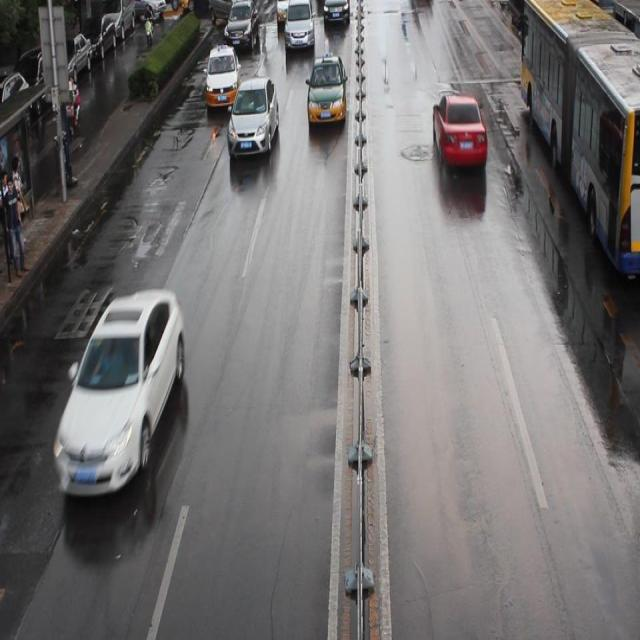car: (53, 285, 185, 497), (431, 90, 487, 166), (228, 76, 278, 156), (306, 55, 346, 123), (205, 44, 240, 108), (223, 1, 259, 46), (208, 1, 250, 22), (322, 1, 349, 23), (275, 1, 305, 20)
truck: (284, 1, 314, 50)
van: (519, 1, 640, 274)
